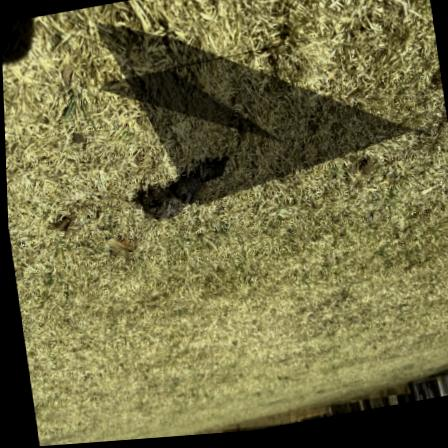dog-poop: (127, 154, 233, 228)
